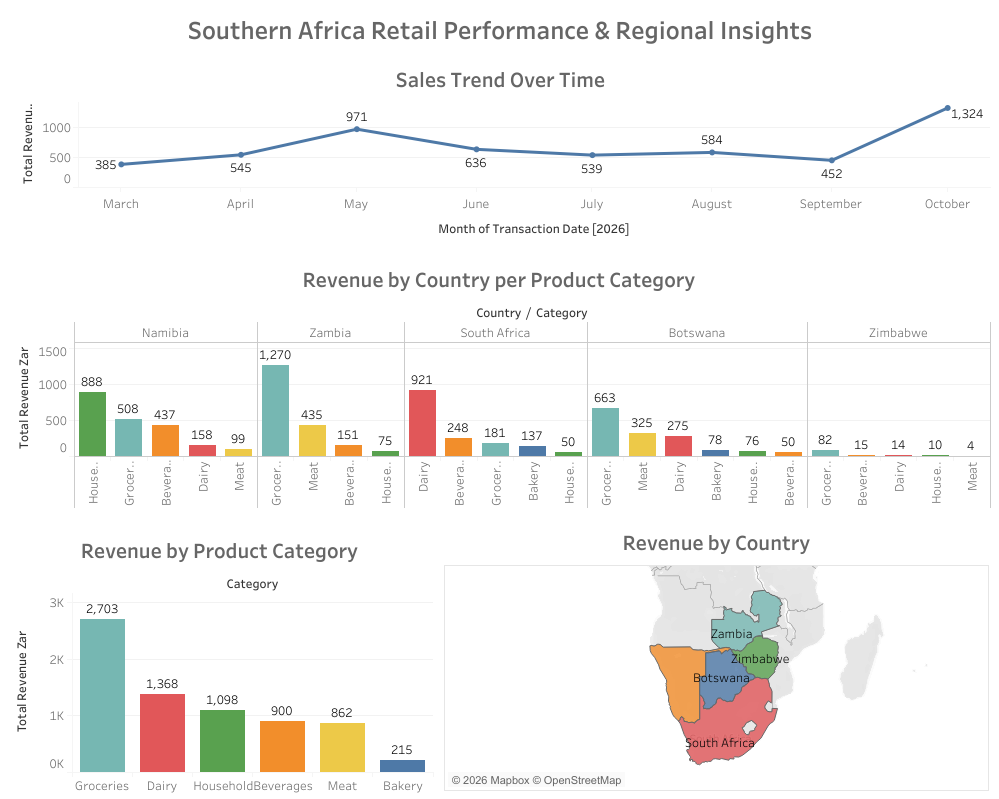

The page's visual inventory and layout, read from the dashboard file:
{"tool":"tableau","page":{"name":"Southern Africa Retail Performance & Regional Insights","canvas":[1000,800],"ordinal":0},"visuals":[{"type":"title","box":[8,8,984,42]},{"type":"worksheet","title":"Sales Trend Over Time","mark":"Automatic","rows":["total_revenue_zar"],"cols":["transaction_date"],"box":[11,59,979,185]},{"type":"worksheet","title":"Revenue by Country per Product Category","mark":"Automatic","rows":["total_revenue_zar"],"cols":["country","category"],"box":[7,259,984,250]},{"type":"worksheet","title":"Revenue by Country","mark":"Multipolygon","box":[444,522,545,269]},{"type":"worksheet","title":"Revenue by Product Category","mark":"Automatic","rows":["total_revenue_zar"],"cols":["category"],"box":[5,530,429,264]}]}

Visuals, with their boxes in screenshot pixels (x1, y1, x2, y2), scaled from the page's 1000x800 canvas onto the 999x799 screenshot:
title: pyautogui.locateOnScreen(8, 8, 991, 50)
"Sales Trend Over Time" worksheet: pyautogui.locateOnScreen(11, 59, 989, 244)
"Revenue by Country per Product Category" worksheet: pyautogui.locateOnScreen(7, 259, 990, 508)
"Revenue by Country" worksheet (Multipolygon marks): pyautogui.locateOnScreen(444, 521, 988, 790)
"Revenue by Product Category" worksheet: pyautogui.locateOnScreen(5, 529, 434, 793)
